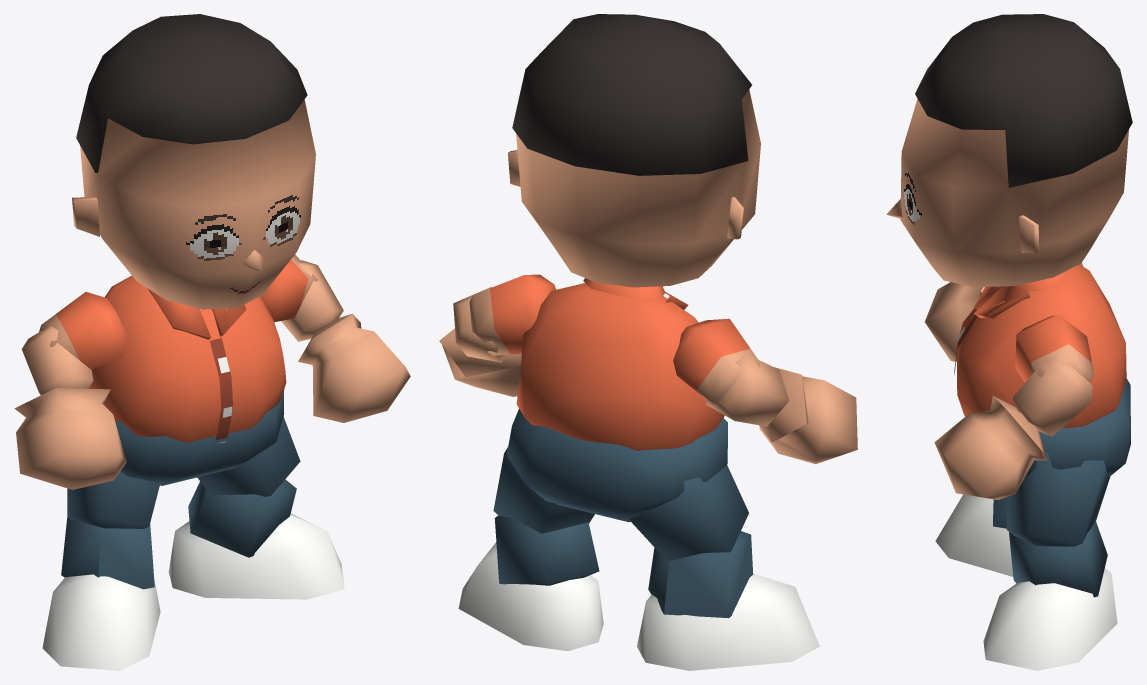
3 renders of one model, left to right at view 1: azimuth 30°, elevation 25°; view 2: azimuth 150°, elevation 25°; view 3: azimuth 270°, elevation 25°, orthographic. The views are drawn at different scales.
Parts seen in each view (by area): view 1: Character; view 2: Character; view 3: Character.
Part boxes in pixels (x1,y1,x2,y2): Character: (14, 14, 410, 670); Character: (439, 14, 857, 670); Character: (886, 14, 1132, 670).
Bounding box in the file's own units: 1.98 × 2.78 × 1.09.
11 materials, 2 textured.
